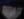with_mask: (1, 1, 24, 19)
